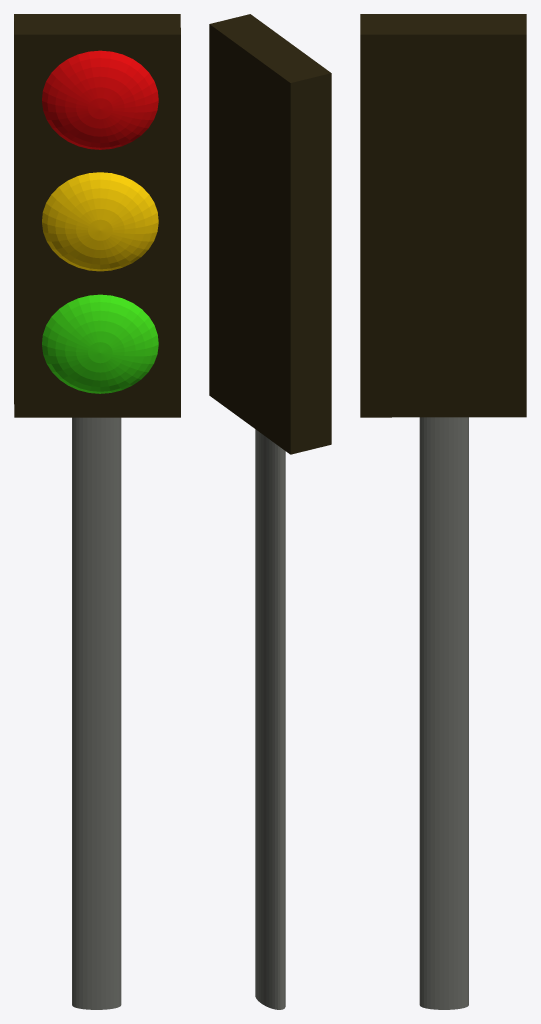
File: Semaforo.glb
3 views of the same model, side by side, from view 1: azimuth 90°, elevation 25°; view 2: azimuth 210°, elevation 25°; view 3: azimuth 270°, elevation 25° (orthographic). The views are drawn at different scales.
Parts seen in each view (by area): view 1: Cube, Cylinder, Sphere, Sphere.002, Sphere.001; view 2: Cube, Cylinder; view 3: Cube, Cylinder.
Boxes of the visible parts, x1,y1,x2,y2 form: Cube: (14, 14, 180, 417); Cylinder: (72, 417, 121, 1009); Sphere: (42, 294, 158, 393); Sphere.002: (42, 50, 158, 149); Sphere.001: (42, 172, 158, 271); Cube: (209, 14, 331, 454); Cylinder: (255, 429, 285, 1009); Cube: (360, 14, 526, 417); Cylinder: (419, 417, 468, 1009).
Bounding box in the file's own units: 0.5421 × 8.63 × 1.33.
